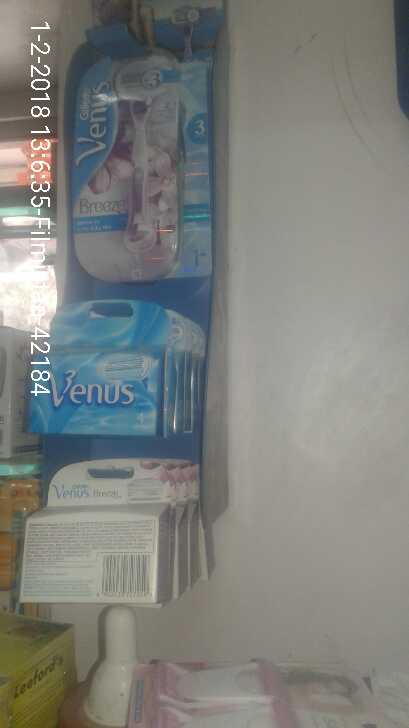venus: (74, 41, 178, 277), (48, 300, 175, 451)
